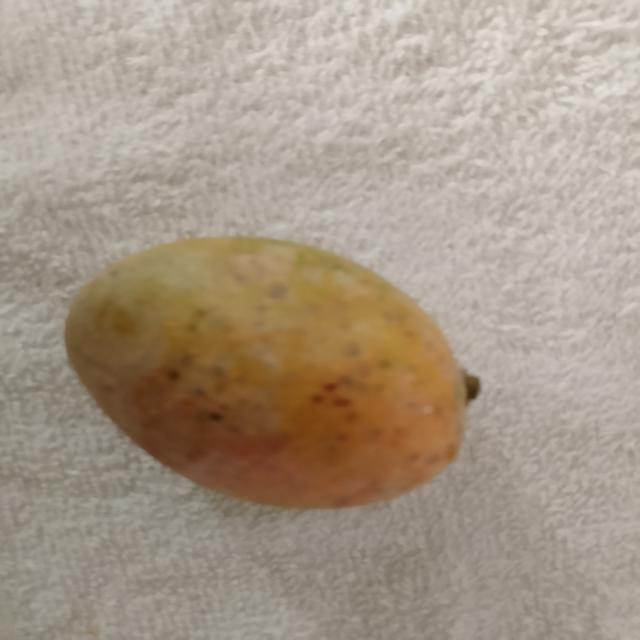mango: (66, 238, 477, 507)
